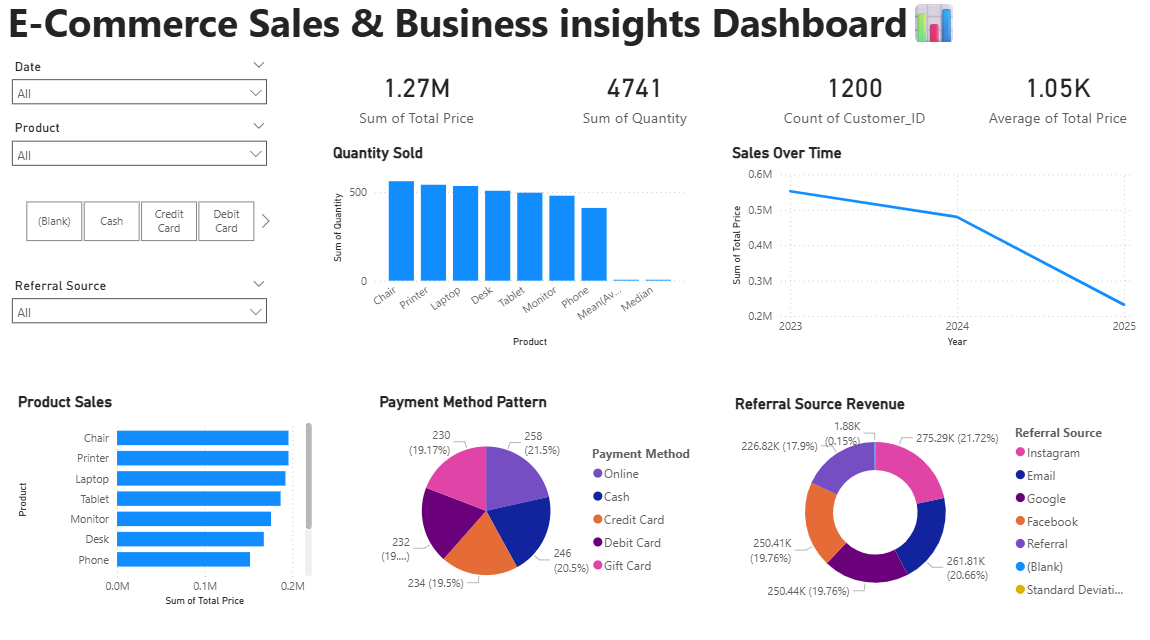

What the dashboard file says about the page in this screenshot:
{"tool":"powerbi","page":{"name":"Page 1","canvas":[1280,720],"ordinal":0},"visuals":[{"type":"textbox","box":[9.9,0,1073.4,69.6],"z":0},{"type":"card","fields":{"Values":["Sum(Cleaned_dataset.Total Price)"]},"box":[369.4,69.6,193.8,91.1],"z":1000},{"type":"card","fields":{"Values":["Sum(Cleaned_dataset.Quantity)"]},"box":[601.3,69.6,212,91.1],"z":2000},{"type":"card","fields":{"Values":["CountNonNull(Cleaned_dataset.Customer_ID)"]},"box":[848.1,69.6,203.7,91.1],"z":3000},{"type":"card","fields":{"Values":["Avg(Cleaned_dataset.Total Price)"]},"box":[1083.3,69.6,182.2,91.1],"z":4000},{"type":"slicer","fields":{"Values":["Cleaned_dataset.Date"]},"box":[9.9,69.6,301.5,67.9],"z":5000},{"type":"slicer","fields":{"Values":["Cleaned_dataset.Product"]},"box":[9.9,137.5,301.5,62.9],"z":6000},{"type":"slicer","fields":{"Values":["Cleaned_dataset.Payment Method"]},"box":[9.9,225.3,301.5,58],"z":7000},{"type":"slicer","fields":{"Values":["Cleaned_dataset.Referral Source"]},"box":[9.9,311.4,301.5,71.2],"z":8000},{"type":"clusteredBarChart","title":"Product Sales","fields":{"Category":["Cleaned_dataset.Product"],"Y":["Sum(Cleaned_dataset.Total Price)"]},"box":[21.5,443.9,334.6,240.2],"z":9000},{"type":"clusteredColumnChart","title":"Quantity Sold","fields":{"Category":["Cleaned_dataset.Product"],"Y":["Sum(Cleaned_dataset.Quantity)"]},"box":[369.4,169,397.6,228.6],"z":10000},{"type":"lineChart","title":"Sales Over Time","fields":{"Category":["Cleaned_dataset.Date.Variation.Date Hierarchy.Year","Cleaned_dataset.Date.Variation.Date Hierarchy.Quarter","Cleaned_dataset.Date.Variation.Date Hierarchy.Month","Cleaned_dataset.Date.Variation.Date Hierarchy.Day"],"Y":["Sum(Cleaned_dataset.Total Price)"]},"box":[810,169,455.5,228.6],"z":11000},{"type":"pieChart","title":" Payment Method Pattern","fields":{"Category":["Cleaned_dataset.Payment Method"],"Y":["CountNonNull(Cleaned_dataset.Customer_ID)"]},"box":[420.7,443.9,362.8,240.2],"z":12000},{"type":"donutChart","title":"Referral Source Revenue","fields":{"Category":["Cleaned_dataset.Referral Source"],"Y":["Sum(Cleaned_dataset.Total Price)"]},"box":[813.3,445.6,452.2,240.2],"z":13000}]}

Visuals, with their boxes in screenshot pixels (x1, y1, x2, y2), scaled from the page's 1280x720 canvas onto the 1150x640 screenshot:
textbox: 9, 0, 973, 62
card - Sum(Cleaned_dataset.Total Price): 332, 62, 506, 143
card - Sum(Cleaned_dataset.Quantity): 540, 62, 731, 143
card - CountNonNull(Cleaned_dataset.Customer_ID): 762, 62, 945, 143
card - Avg(Cleaned_dataset.Total Price): 973, 62, 1137, 143
slicer - Cleaned_dataset.Date: 9, 62, 280, 122
slicer - Cleaned_dataset.Product: 9, 122, 280, 178
slicer - Cleaned_dataset.Payment Method: 9, 200, 280, 252
slicer - Cleaned_dataset.Referral Source: 9, 277, 280, 340
"Product Sales" clusteredBarChart: 19, 395, 320, 608
"Quantity Sold" clusteredColumnChart: 332, 150, 689, 353
"Sales Over Time" lineChart: 728, 150, 1137, 353
" Payment Method Pattern" pieChart: 378, 395, 704, 608
"Referral Source Revenue" donutChart: 731, 396, 1137, 610
